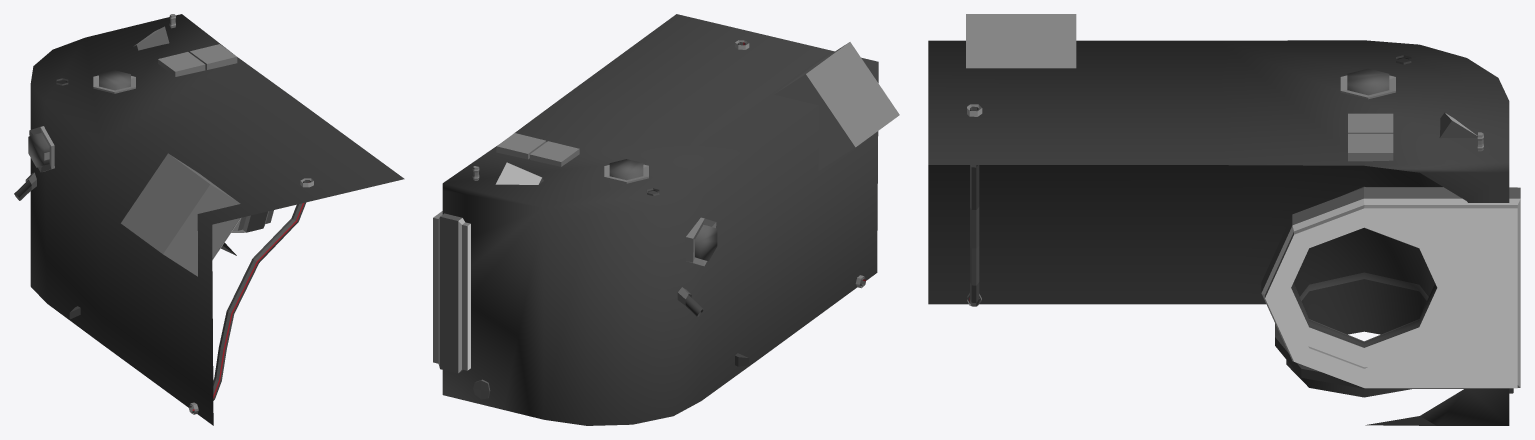
Rendered from PipeTurn00.glb.
3 views of the same model, side by side, from view 1: azimuth 30°, elevation 25°; view 2: azimuth 150°, elevation 25°; view 3: azimuth 270°, elevation 25° (orthographic). The views are drawn at different scales.
Visible parts, largest first — view 1: turn; view 2: turn; view 3: turn.
Boxes of the visible parts, left/top/right/bottom form: turn: left=14, top=14, right=404, bottom=425; turn: left=433, top=14, right=899, bottom=425; turn: left=928, top=14, right=1520, bottom=425.
Bounding box in the file's own units: 2.42 × 2.26 × 4.08.
1 material, 1 textured.
